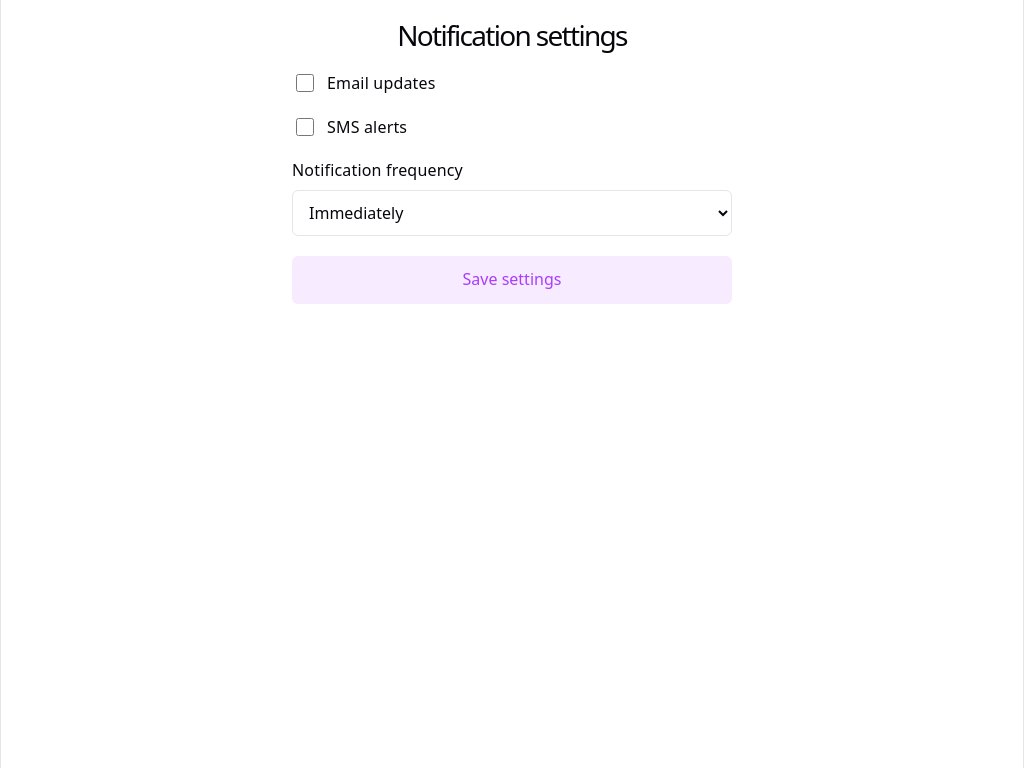
NotificationSettings › prevents submission with an invalid phone number
The width and height of the screenshot is (1024, 768).
Click the checkbox labelled "SMS alerts" at point(305, 127), box [296,118,314,136]
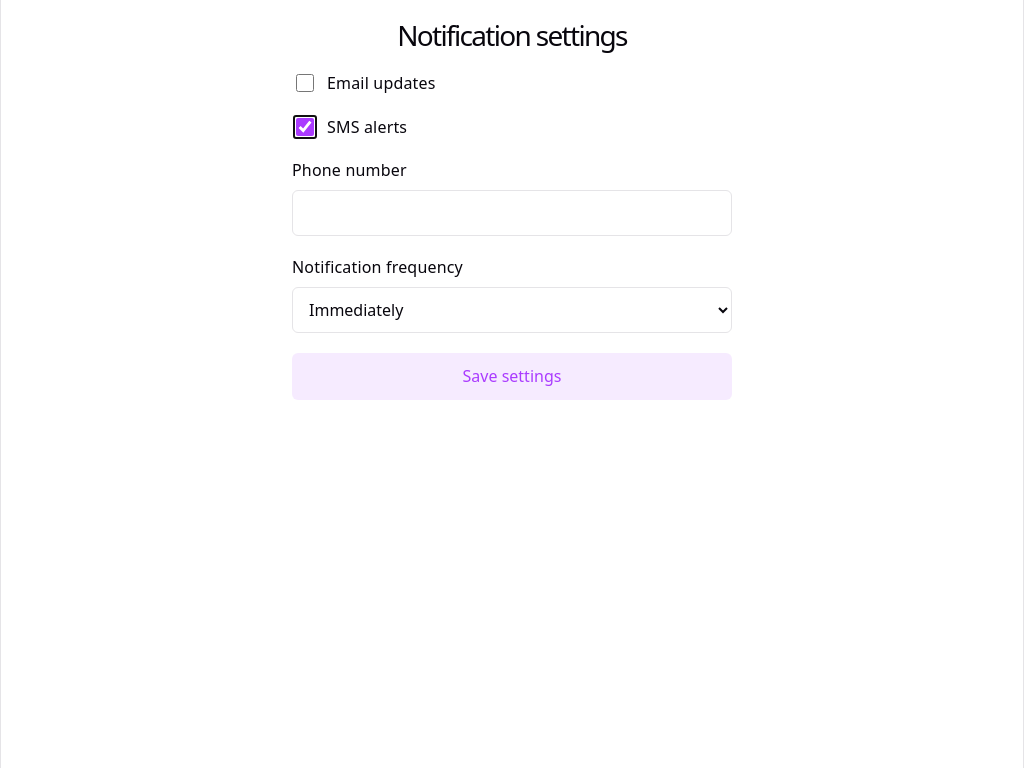
Type "123" into the field labelled "Phone number" at point(512, 213), box [292,190,732,236]
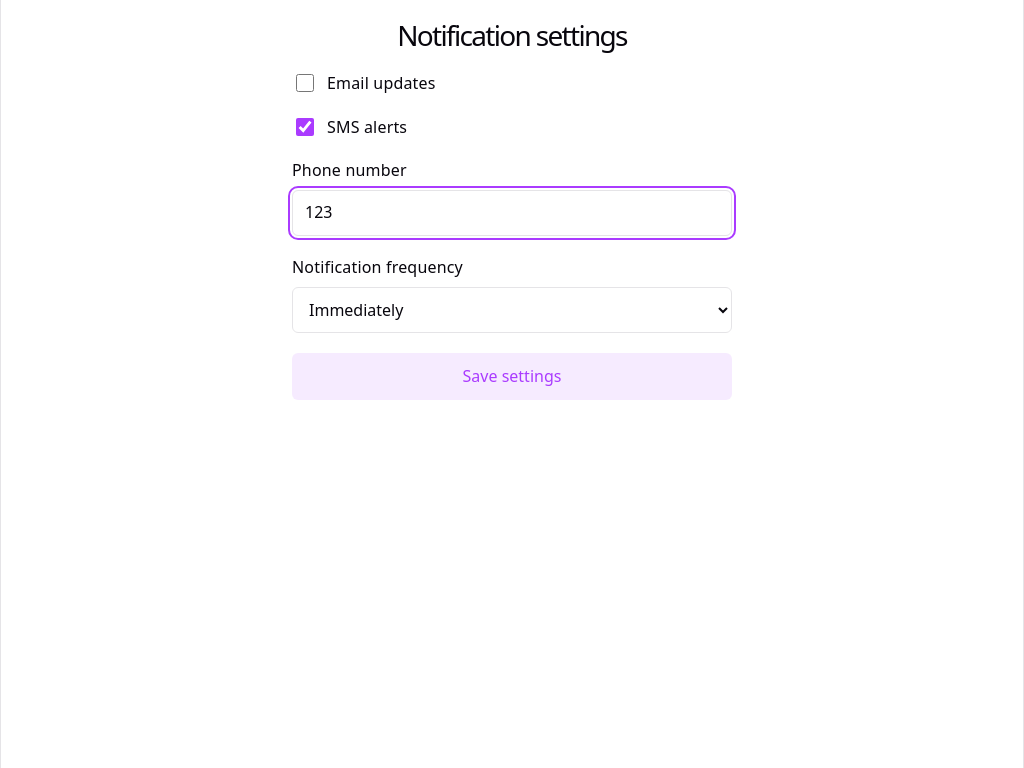
Click the button "Save settings" at point(512, 376), box [292,353,732,400]
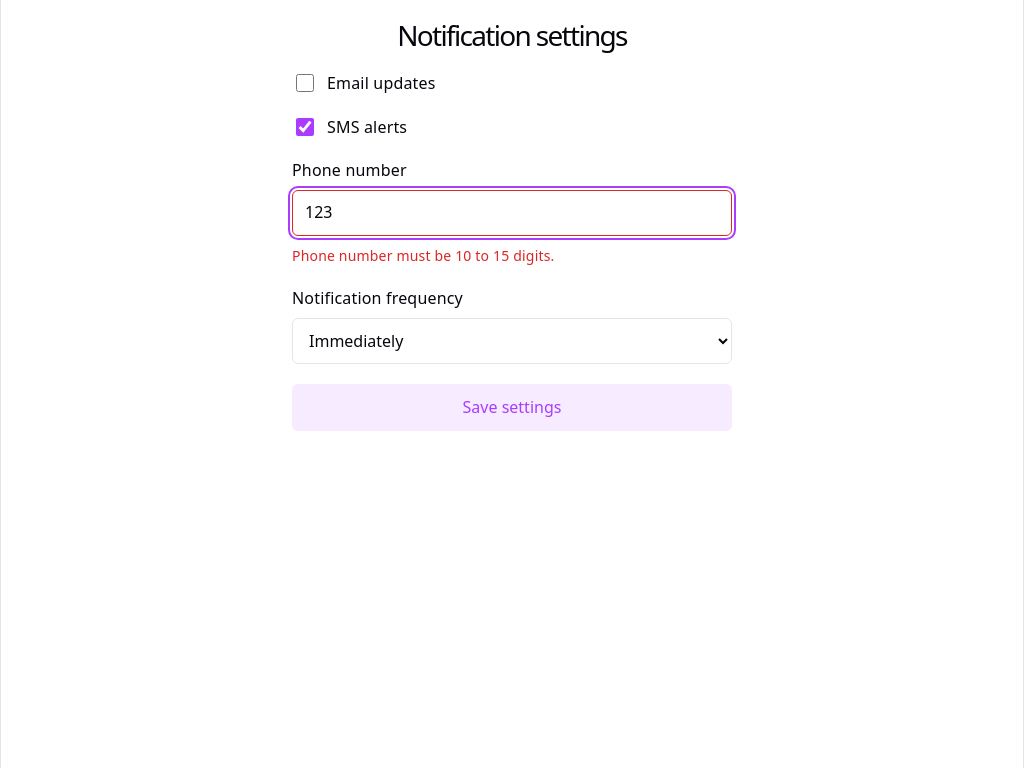
Now the message shows "Phone number must be 10 to 15 digits", box [292,246,554,265]
